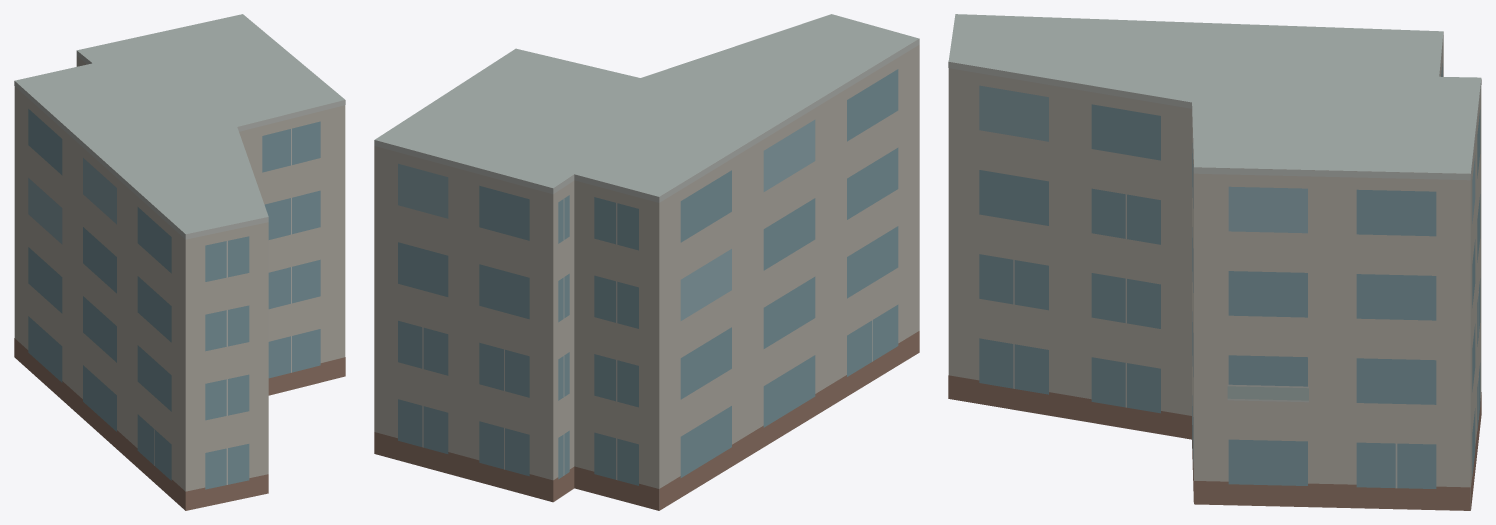
Rendered from survey-upis-32815840.glb.
The picture shows the model from 3 angles, left to right: view 1: azimuth 30°, elevation 25°; view 2: azimuth 150°, elevation 25°; view 3: azimuth 270°, elevation 25°; orthographic projection. The views are drawn at different scales.
Visible parts, largest first — view 1: survey-upis-32815840.tmp; view 2: survey-upis-32815840.tmp; view 3: survey-upis-32815840.tmp.
Boxes of the visible parts, x1,y1,x2,y2 form: survey-upis-32815840.tmp: (14, 14, 345, 510); survey-upis-32815840.tmp: (374, 14, 919, 510); survey-upis-32815840.tmp: (948, 14, 1481, 510).
Size of the model in its own units: 12.97 by 12.75 by 18.28.
